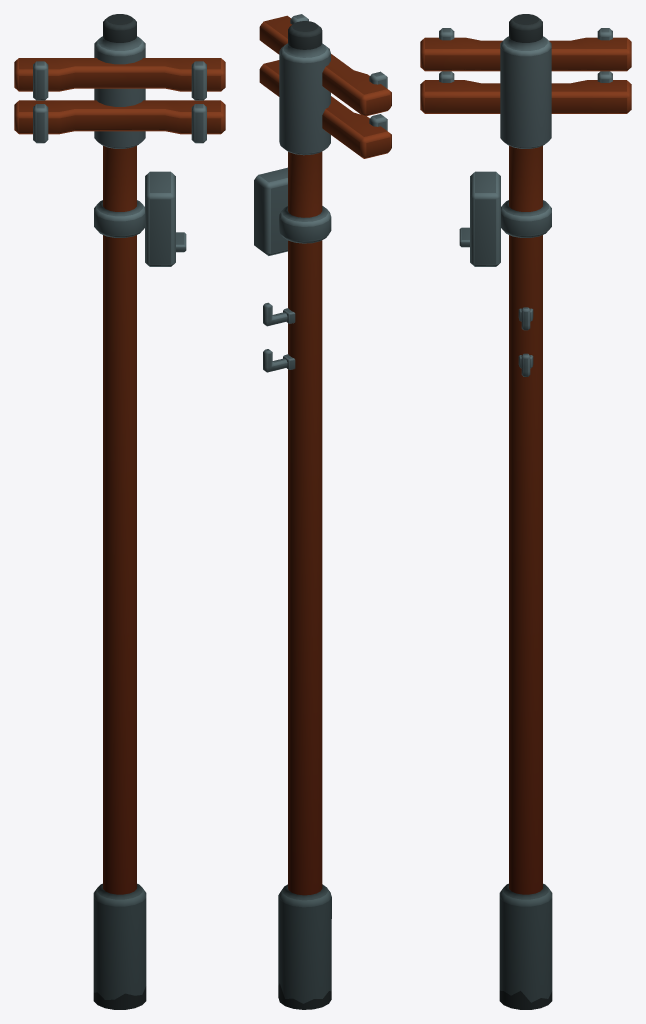
File: Obstacle_Tree_06.fbx
3 views of the same model, side by side, from view 1: azimuth 90°, elevation 25°; view 2: azimuth 210°, elevation 25°; view 3: azimuth 270°, elevation 25° (orthographic).
Visible parts, largest first — view 1: Obstacle_Tree_06; view 2: Obstacle_Tree_06; view 3: Obstacle_Tree_06.
Boxes of the visible parts, <box> form: Obstacle_Tree_06: <box>14,14,225,1009</box>; Obstacle_Tree_06: <box>254,14,391,1009</box>; Obstacle_Tree_06: <box>420,14,631,1009</box>.
Bounding box in the file's own units: 0.2572 × 2.9 × 0.5683.
